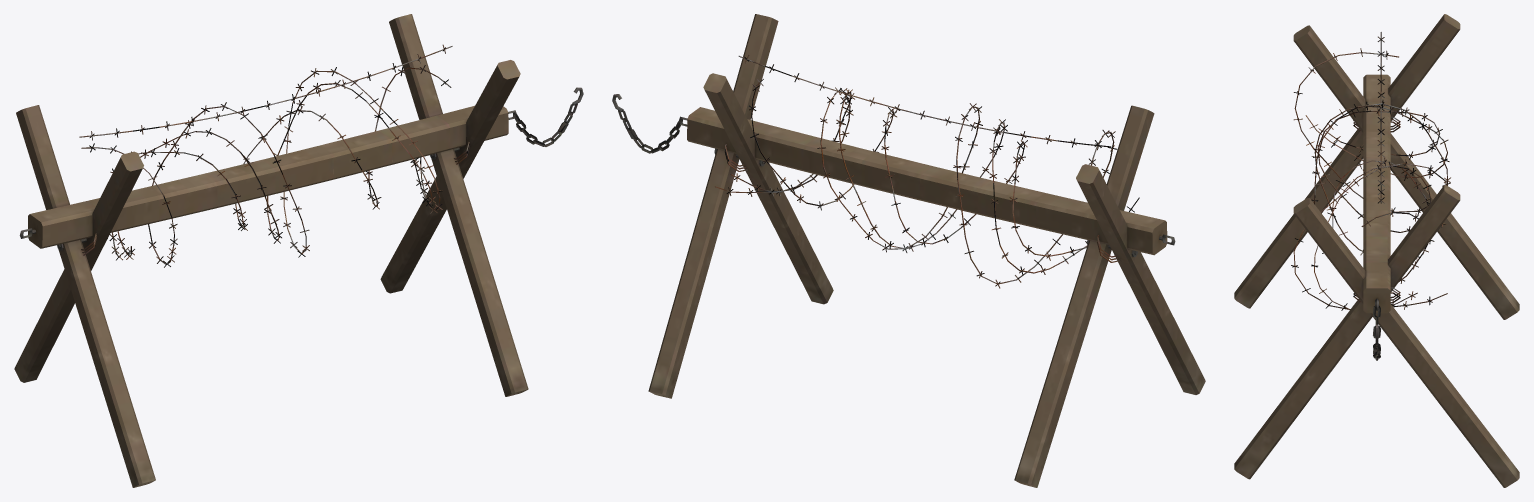
File: knife_rest-low.glb
The picture shows the model from 3 angles, left to right: view 1: azimuth 30°, elevation 25°; view 2: azimuth 150°, elevation 25°; view 3: azimuth 270°, elevation 25°; orthographic projection. The views are drawn at different scales.
Parts seen in each view (by area): view 1: knife_rest; view 2: knife_rest; view 3: knife_rest.
Part boxes in pixels (x1,y1,x2,y2): knife_rest: (14,14,583,487); knife_rest: (612,14,1205,487); knife_rest: (1234,14,1519,487).
Size of the model in its own units: 2.9 by 1.5 by 1.36.
Materials: 2 (2 with a texture image).
